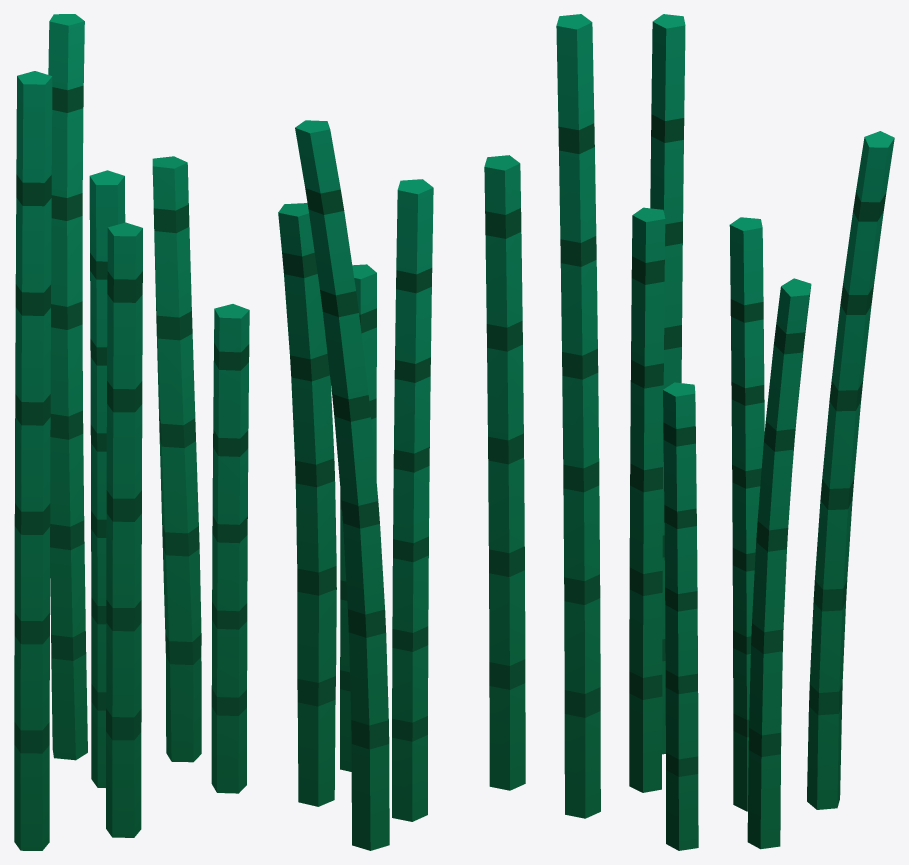
Rendered from Bamboo1.fbx.
3 views of the same model, side by side, from view 1: azimuth 30°, elevation 25°; view 2: azimuth 150°, elevation 25°; view 3: azimuth 270°, elevation 25° (orthographic). The views are drawn at different scales.
Visible parts, largest first — view 1: Cube.039; view 2: Cube.039; view 3: Cube.039.
Boxes of the visible parts, box(x1,y1,x2,y2) form: Cube.039: box(14, 14, 249, 850); Cube.039: box(278, 14, 600, 850); Cube.039: box(629, 14, 894, 850).
Bounding box in the file's own units: 152 × 466 × 154.
